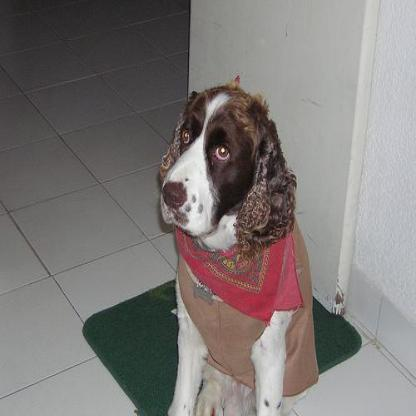English_springer: (155, 70, 317, 413)
